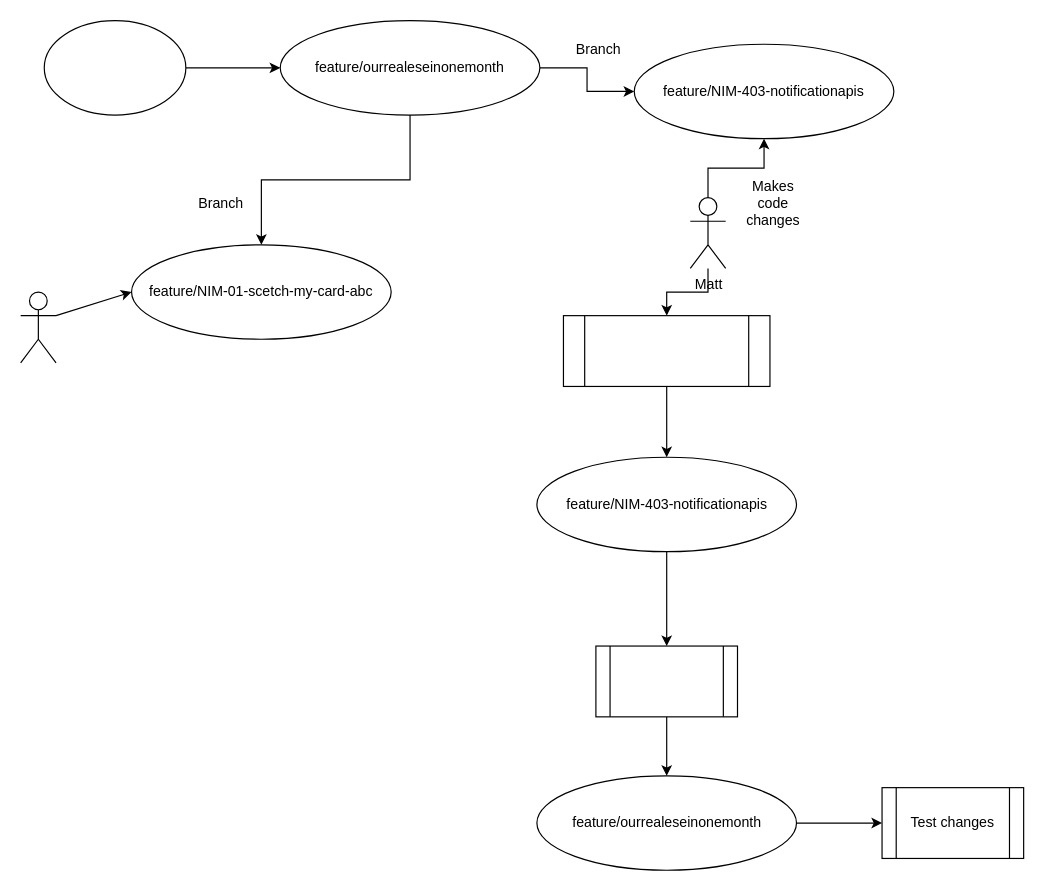
Image size: 1044x891. Some labels were removed from this diagram. The shapes that lost their labels are listed below. From the top down, each one's box as (x1, y1, x2, y2) in pixels, then its label:
(43, 19, 186, 115): Master
(19, 291, 56, 363): Phil
(562, 314, 770, 386): Pull request feature/NIM-403-notificationapis
(595, 645, 738, 717): Merge into
